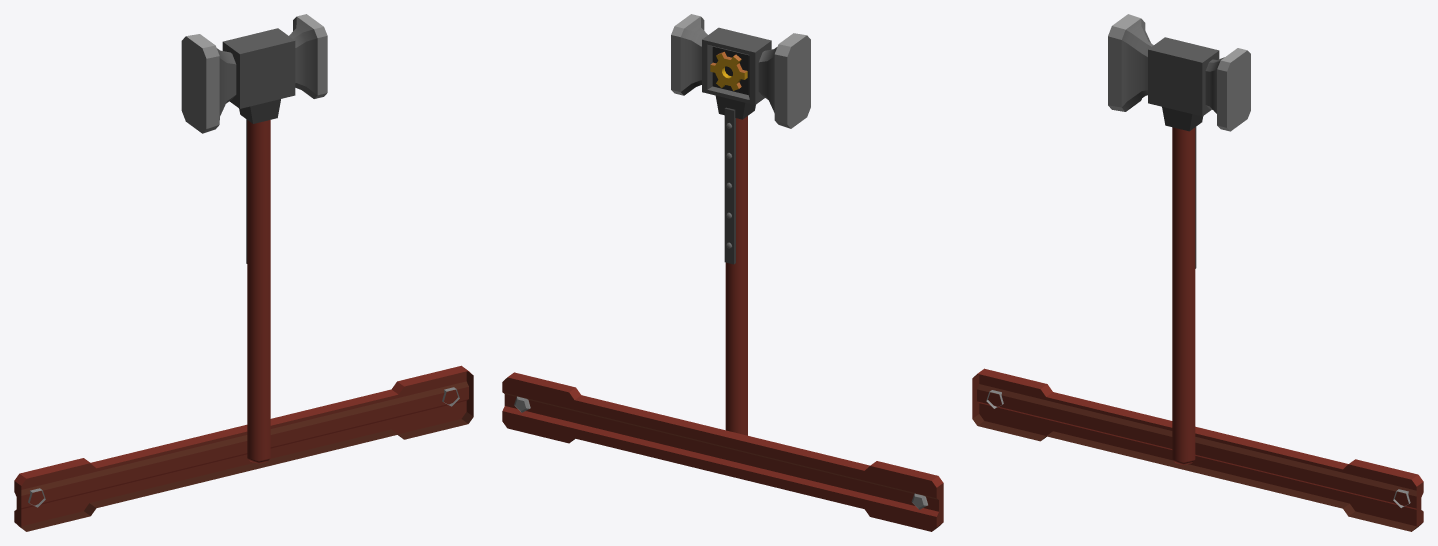
The model's file is firerate_t1_a3.fbx.
The picture shows the model from 3 angles, left to right: view 1: azimuth 30°, elevation 25°; view 2: azimuth 150°, elevation 25°; view 3: azimuth 330°, elevation 25°; orthographic projection. The views are drawn at different scales.
Visible parts, largest first — view 1: firerate_t1_a3_m_lock, firerate_t1_a3_m; view 2: firerate_t1_a3_m_lock, firerate_t1_a3_m; view 3: firerate_t1_a3_m_lock, firerate_t1_a3_m.
Boxes of the visible parts, box(x1,y1,x2,y2) form: firerate_t1_a3_m_lock: box(14, 365, 473, 531); firerate_t1_a3_m: box(181, 14, 327, 463); firerate_t1_a3_m_lock: box(502, 372, 943, 531); firerate_t1_a3_m: box(671, 14, 810, 435); firerate_t1_a3_m_lock: box(972, 368, 1423, 531); firerate_t1_a3_m: box(1108, 14, 1250, 464).
Bounding box in the file's own units: 5.46 × 5.31 × 0.6409.
